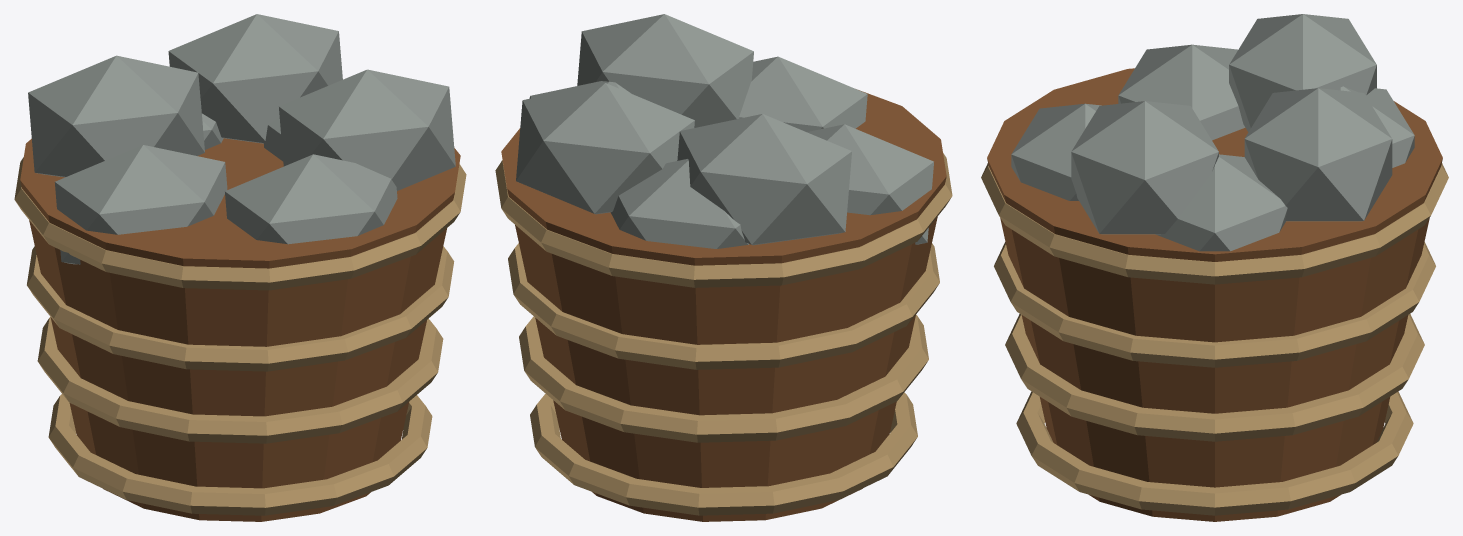
Rendered from carry-stone-blockout.glb.
The picture shows the model from 3 angles, left to right: view 1: azimuth 30°, elevation 25°; view 2: azimuth 150°, elevation 25°; view 3: azimuth 270°, elevation 25°; orthographic projection. The views are drawn at different scales.
Visible parts, largest first — view 1: Cone, Icosphere.001, Icosphere.005, Icosphere.003, Torus.001, Torus, Icosphere.004, Torus.002, Icosphere.002, Torus.003, Icosphere; view 2: Cone, Icosphere.001, Icosphere.003, Icosphere.005, Torus.001, Torus, Torus.002, Torus.003, Icosphere.006, Icosphere.002, Icosphere.004; view 3: Cone, Icosphere.003, Icosphere.005, Torus.001, Torus, Torus.002, Torus.003, Icosphere.001, Icosphere, Icosphere.004, Icosphere.002, Icosphere.006.
Boxes of the visible parts, bbox=[...] form: Cone: bbox=[20, 138, 460, 521]; Icosphere.001: bbox=[28, 55, 204, 177]; Icosphere.005: bbox=[278, 69, 455, 190]; Icosphere.003: bbox=[168, 14, 342, 143]; Torus.001: bbox=[37, 317, 443, 443]; Torus: bbox=[48, 394, 432, 515]; Icosphere.004: bbox=[54, 145, 227, 264]; Torus.002: bbox=[27, 246, 454, 371]; Icosphere.002: bbox=[225, 154, 397, 244]; Torus.003: bbox=[14, 157, 466, 290]; Icosphere: bbox=[263, 117, 283, 161]; Cone: bbox=[501, 90, 946, 521]; Icosphere.001: bbox=[677, 114, 851, 245]; Icosphere.003: bbox=[516, 83, 694, 214]; Icosphere.005: bbox=[577, 14, 753, 127]; Torus.001: bbox=[519, 314, 928, 442]; Torus: bbox=[530, 392, 917, 515]; Torus.002: bbox=[508, 243, 939, 369]; Torus.003: bbox=[495, 153, 952, 287]; Icosphere.006: bbox=[610, 159, 748, 248]; Icosphere.002: bbox=[739, 56, 867, 131]; Icosphere.004: bbox=[807, 124, 933, 244]; Cone: bbox=[987, 68, 1442, 521]; Icosphere.003: bbox=[1244, 88, 1392, 221]; Icosphere.005: bbox=[1071, 101, 1218, 234]; Torus.001: bbox=[1005, 314, 1424, 441]; Torus: bbox=[1016, 391, 1413, 515]; Torus.002: bbox=[994, 242, 1435, 367]; Torus.003: bbox=[981, 163, 1448, 284]; Icosphere.001: bbox=[1229, 14, 1376, 131]; Icosphere: bbox=[1155, 154, 1287, 251]; Icosphere.004: bbox=[1118, 44, 1245, 140]; Icosphere.002: bbox=[1011, 103, 1101, 200]; Icosphere.006: bbox=[1339, 86, 1414, 167].
Size of the model in its own units: 0.431 by 0.405 by 0.431.
